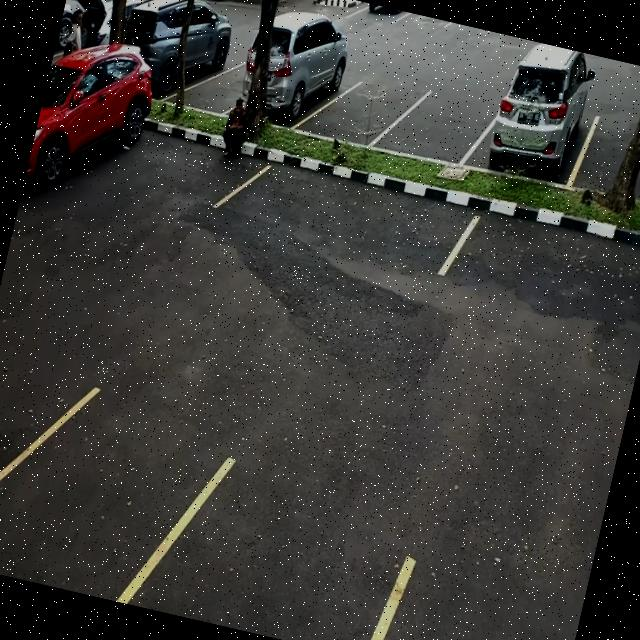empty: (227, 144, 482, 281), (389, 77, 498, 173), (318, 64, 414, 156), (574, 89, 640, 210), (185, 51, 247, 122), (410, 13, 458, 37)
occupied: (477, 59, 600, 194), (253, 14, 354, 136), (357, 1, 415, 26)
